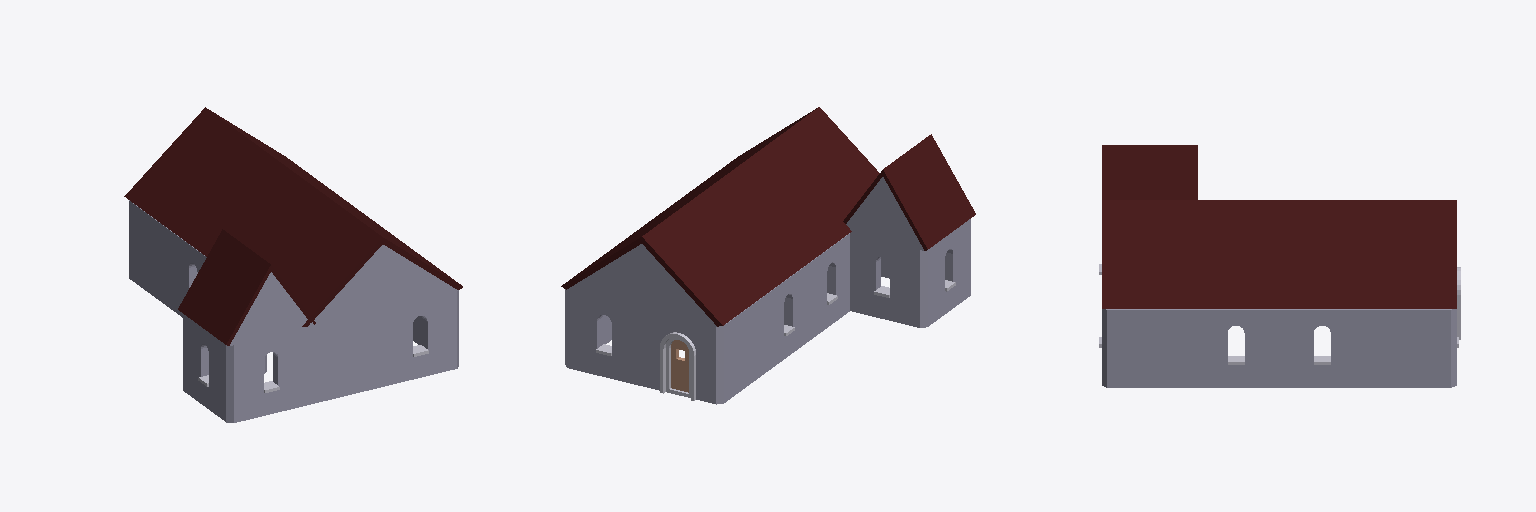
The model's file is House5.obj.
The picture shows the model from 3 angles: view 1: azimuth 30°, elevation 25°; view 2: azimuth 150°, elevation 25°; view 3: azimuth 270°, elevation 25°; orthographic projection.
Bounding box in the file's own units: 3.2 × 1.92 × 4.21.